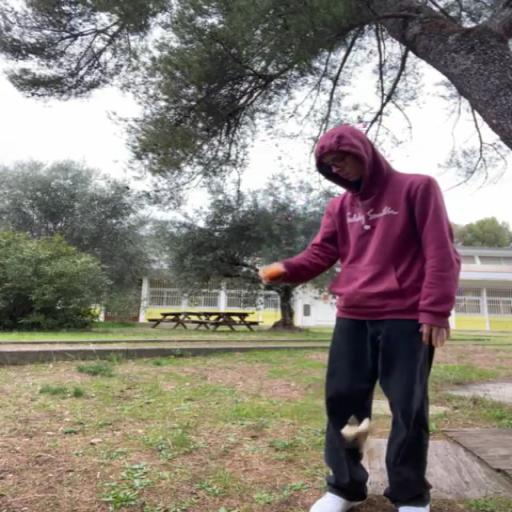kendama_ball: (262, 266, 287, 284)
